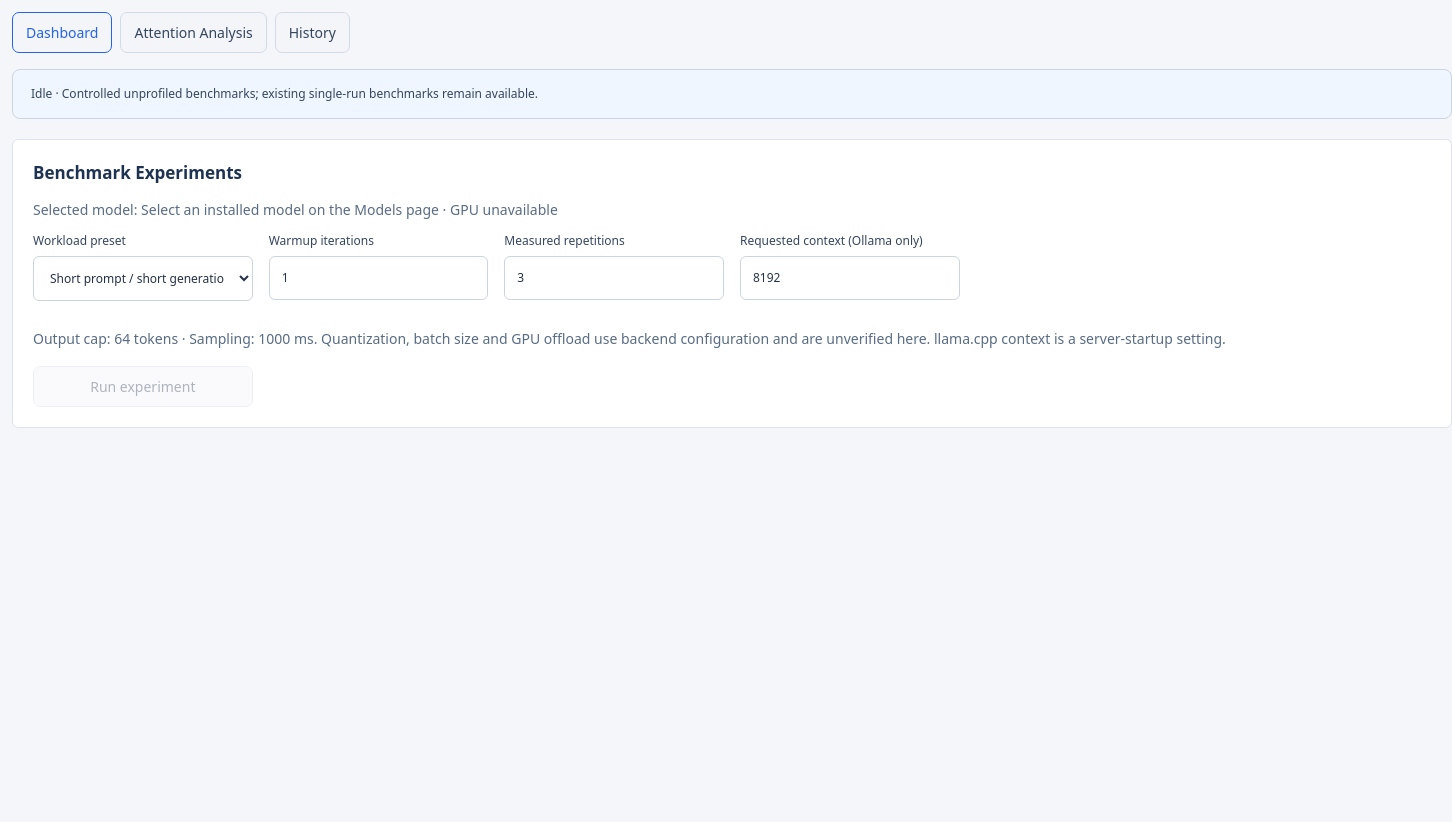
Scenario: profiling unavailable states › disables benchmark execution without native access or a model
Check: the button "Run experiment" is disabled, box [33,366,253,408]
Click the button "Attention Analysis". click: (194,32)
box: [120,12,267,53]
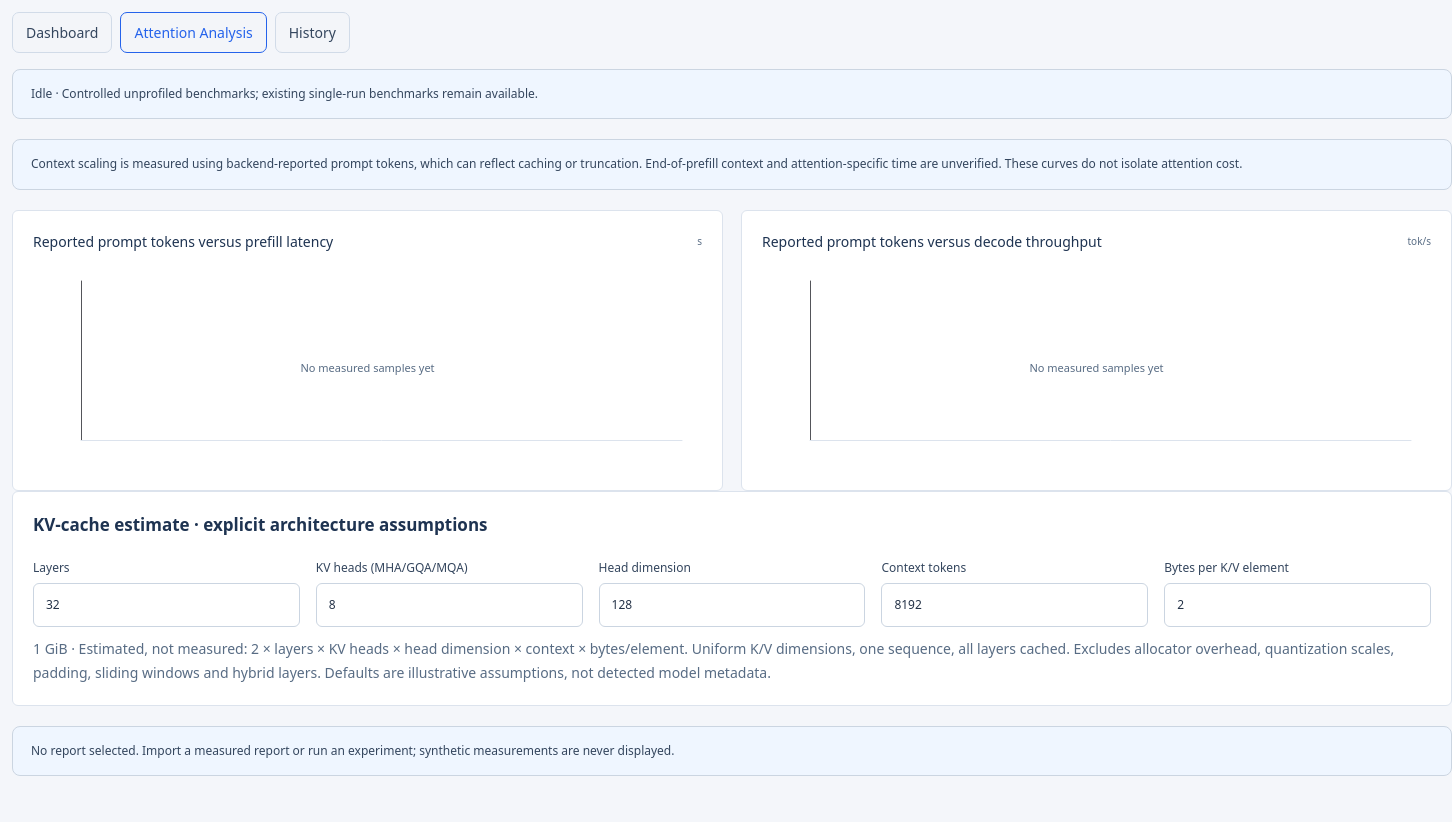
Check: the text "Defaults are illustrative assumptions" is shown, box [33,639,1394,682]
